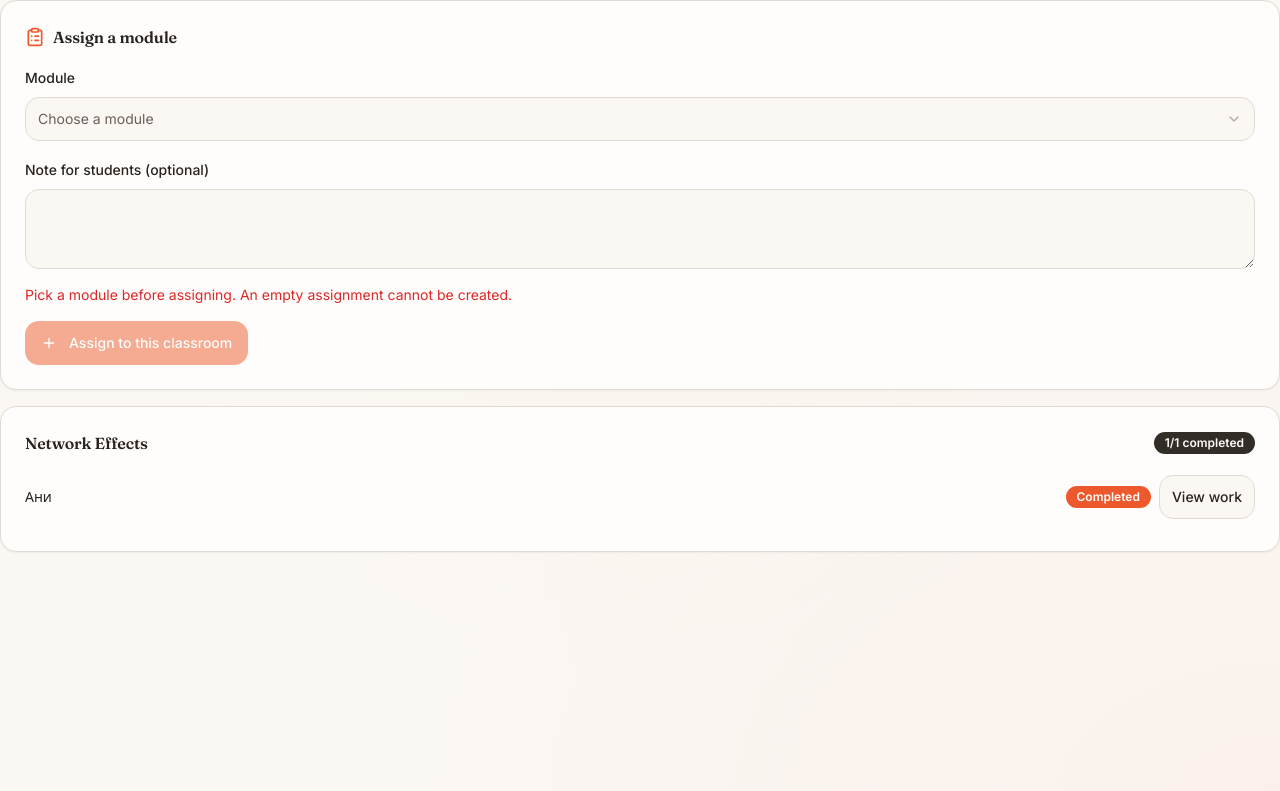
Test: 4. teacher rubric panel is Teacher Workspace only › shows rubric, checklist, decision key, common errors and prompts for network-effects
Click the button "View work". click: (1207, 497)
box: left=1159, top=475, right=1255, bottom=519
(page scrolled)
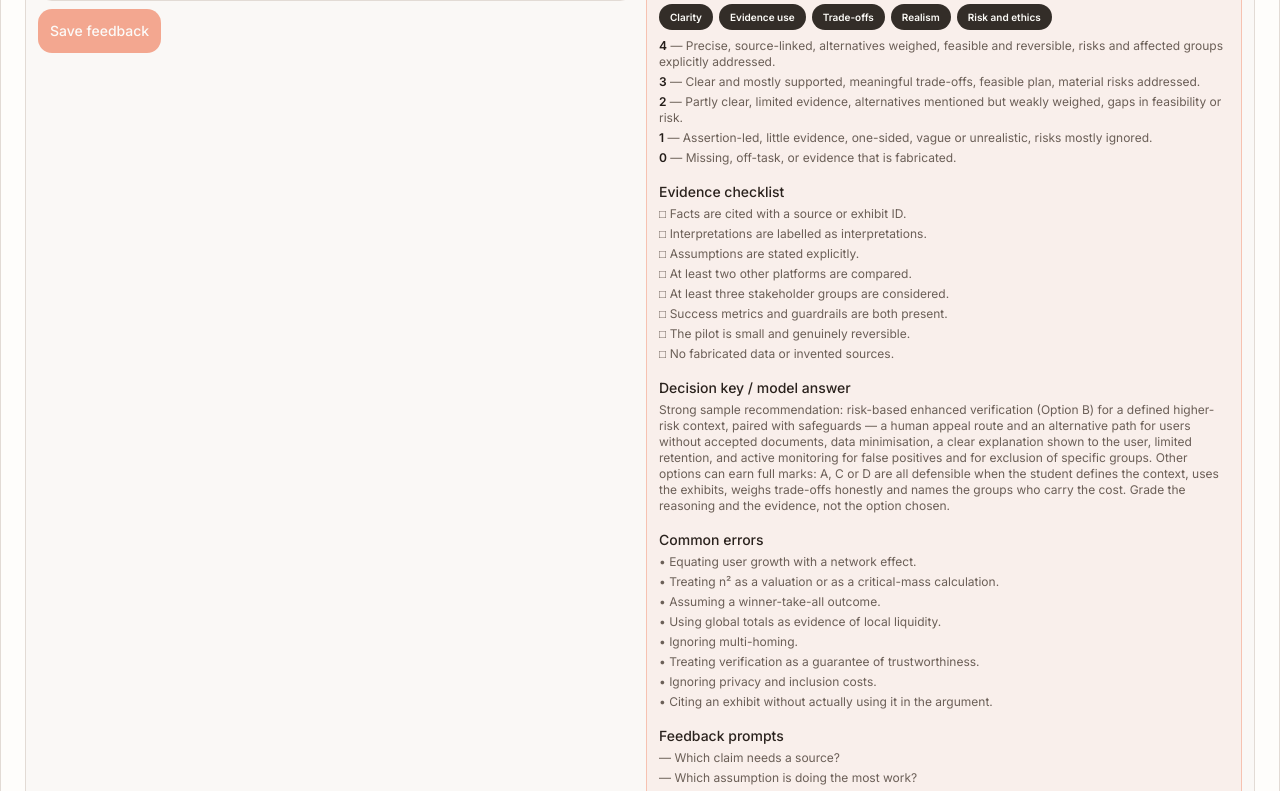
Check: the element with test id "teacher-rubric-panel" shows "Clarity", box left=670, top=11, right=702, bottom=23
Check: the element with test id "teacher-rubric-panel" shows "Evidence use", box left=730, top=11, right=795, bottom=23
Check: the element with test id "teacher-rubric-panel" shows "Trade-offs", box left=823, top=11, right=874, bottom=23
